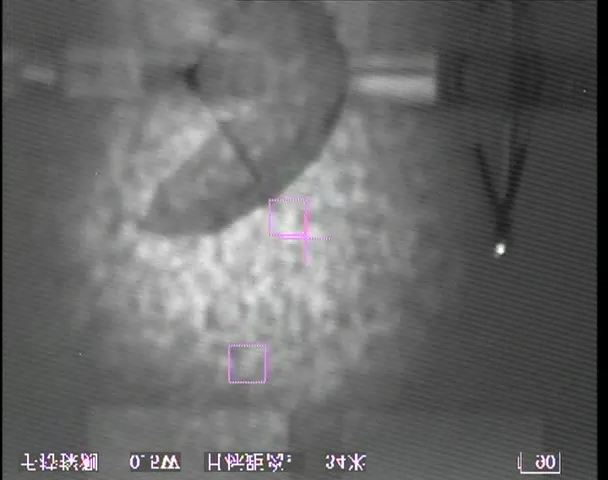my: (495, 243, 507, 255)
